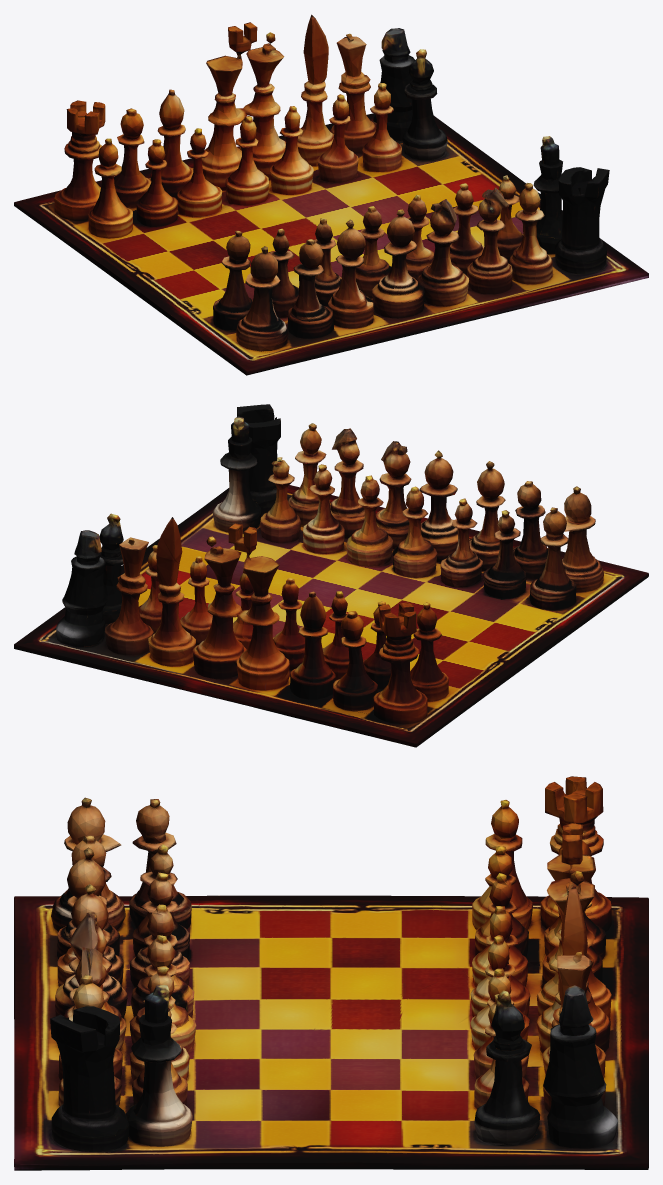
The model's file is wooden-chess-set-art-deco.jpeg.glb.
The picture shows the model from 3 angles, top to bottom: view 1: azimuth 30°, elevation 25°; view 2: azimuth 150°, elevation 25°; view 3: azimuth 270°, elevation 25°; orthographic projection. The views are drawn at different scales.
Parts seen in each view (by area): view 1: world; view 2: world; view 3: world.
Part boxes in pixels (bbox=[...]): world: bbox=[14, 14, 648, 375]; world: bbox=[14, 404, 648, 747]; world: bbox=[14, 776, 648, 1170].
Size of the model in its own units: 1 by 0.3573 by 1.
1 material, 1 textured.
